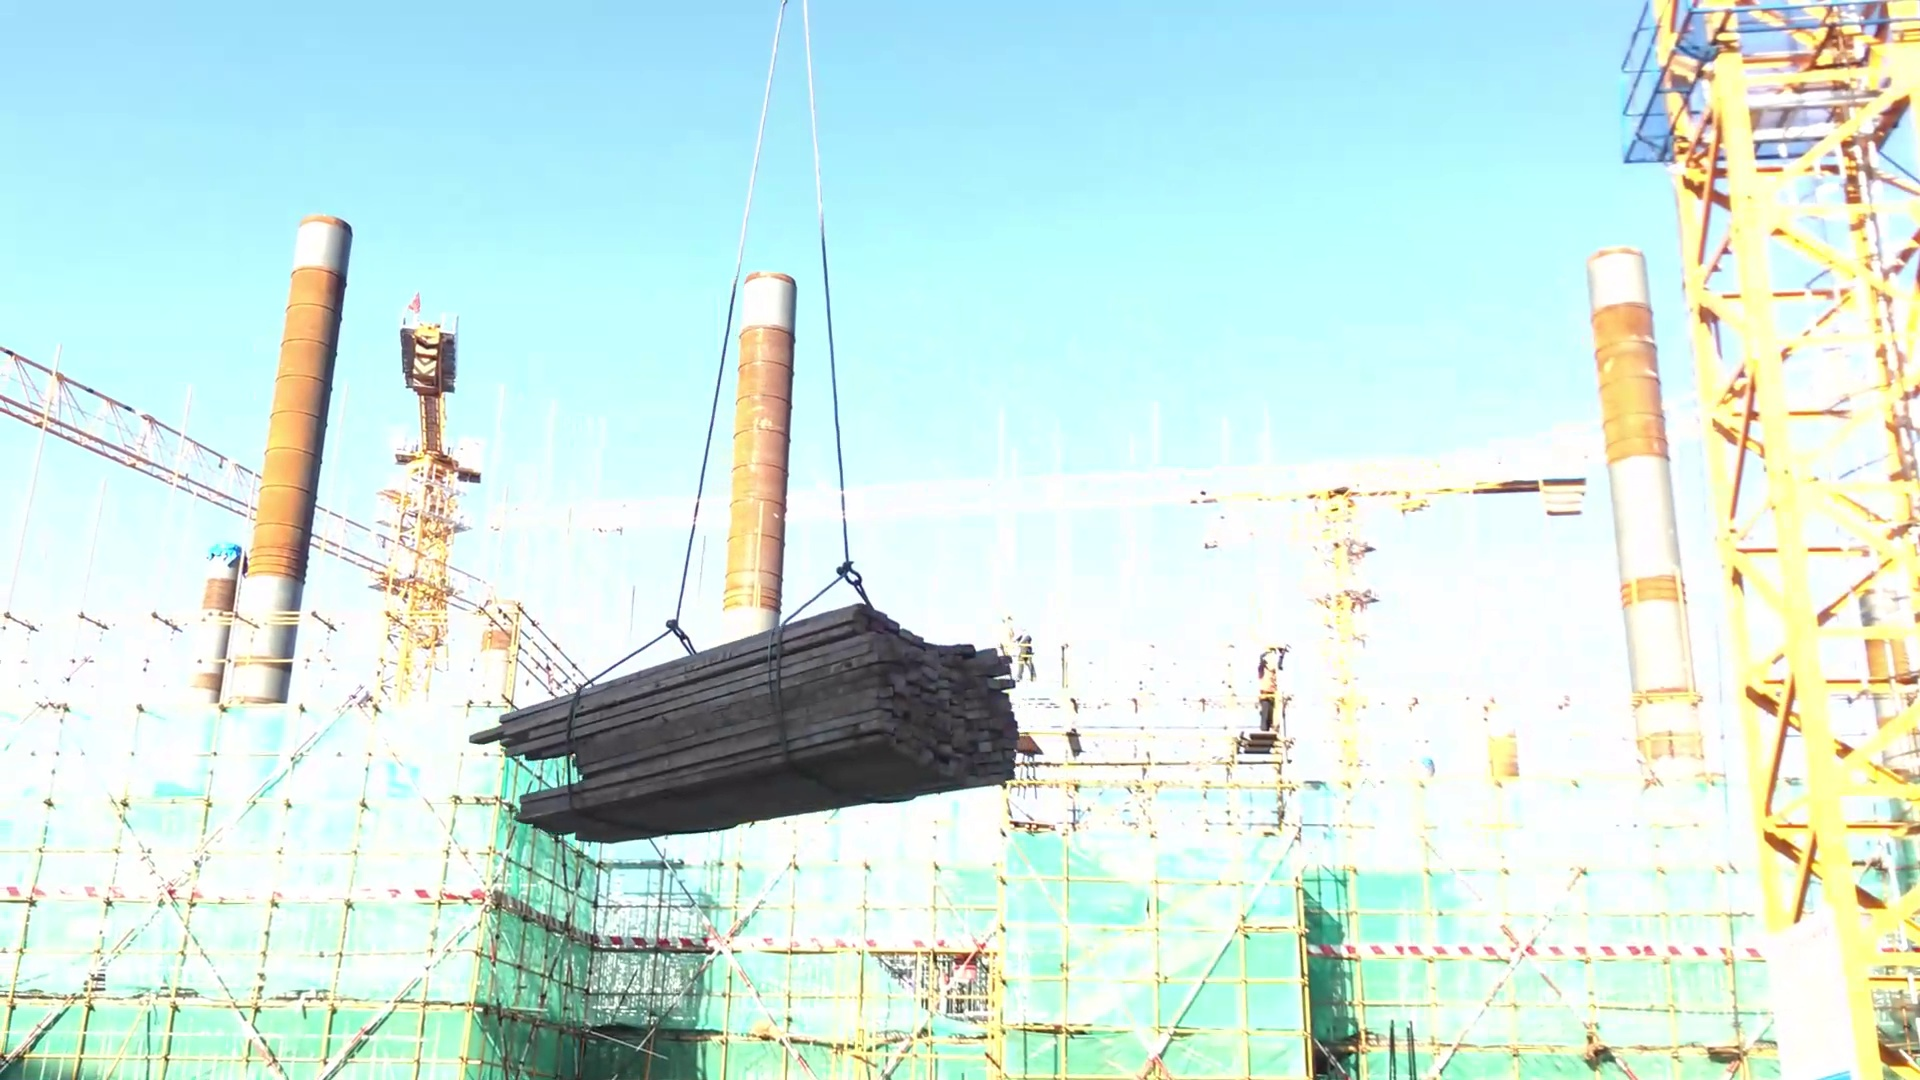wood: (469, 593, 1010, 843)
